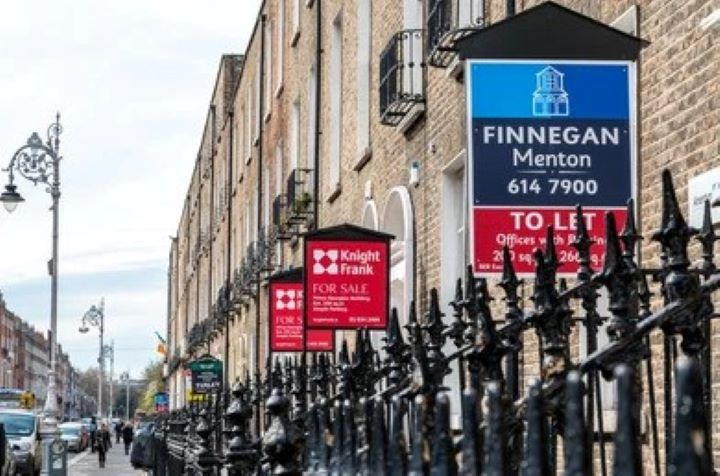property sign: (450, 41, 654, 297), (300, 236, 395, 341), (259, 268, 331, 354), (187, 352, 235, 397)
